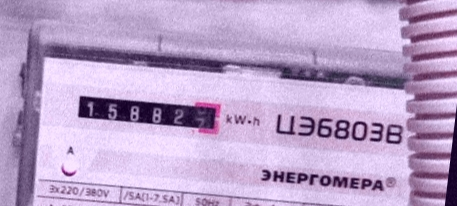1: (83, 98, 95, 117)
2: (171, 105, 184, 124)
5: (104, 100, 118, 119)
7: (193, 114, 205, 128)
8: (127, 102, 140, 120), (150, 105, 162, 122)
screen: (69, 82, 227, 139)
